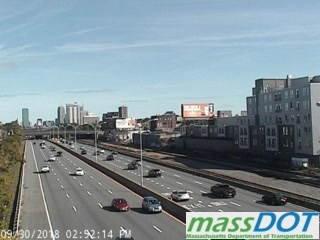car: (210, 183, 236, 199), (142, 195, 163, 214), (263, 191, 287, 206), (111, 197, 130, 212), (171, 190, 190, 201), (148, 168, 162, 178), (41, 164, 50, 174), (74, 167, 84, 176), (45, 154, 56, 162), (126, 164, 138, 171), (131, 160, 143, 167), (54, 150, 63, 157), (106, 155, 114, 162), (80, 148, 87, 155), (48, 145, 56, 151), (93, 150, 99, 157), (110, 151, 118, 156), (79, 145, 85, 150), (39, 144, 46, 148), (69, 144, 75, 148)
